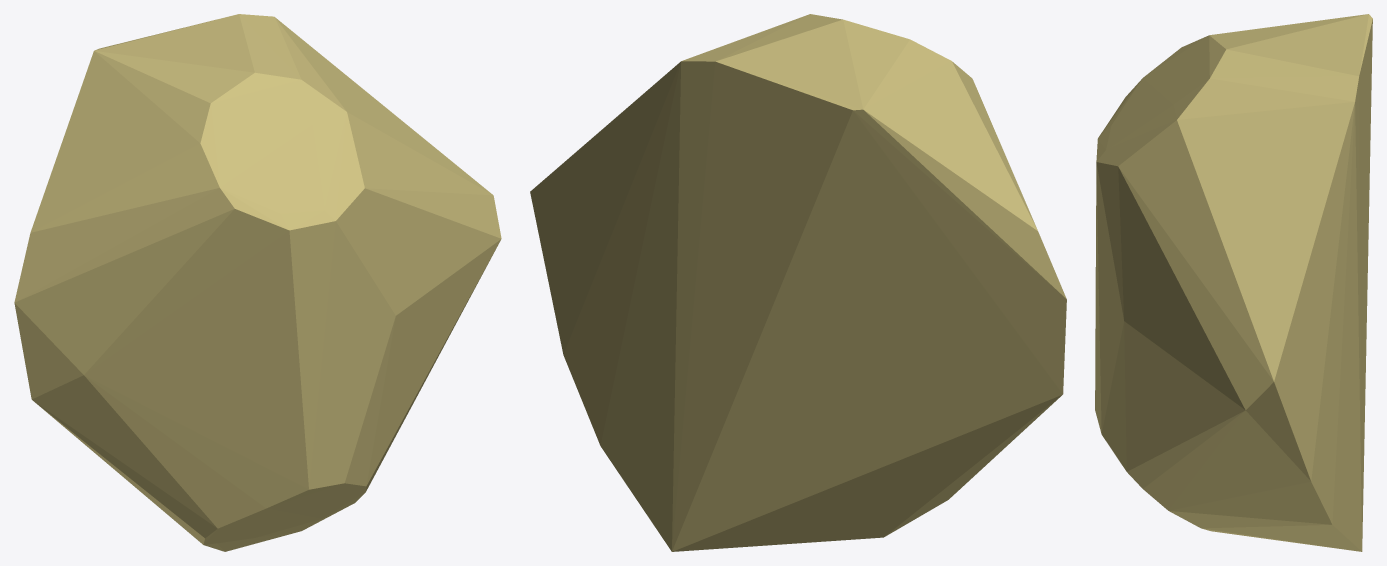
Rendered from ppe_respirator_halfMask_b01.glb.
3 renders of one model, left to right at view 1: azimuth 30°, elevation 25°; view 2: azimuth 150°, elevation 25°; view 3: azimuth 270°, elevation 25°, orthographic. The views are drawn at different scales.
Visible parts, largest first — view 1: geometry_0; view 2: geometry_0; view 3: geometry_0.
Part boxes in pixels (left/top/right/bottom): geometry_0: left=14, top=14, right=501, bottom=551; geometry_0: left=530, top=14, right=1066, bottom=551; geometry_0: left=1095, top=14, right=1372, bottom=551.
Bounding box in the file's own units: 0.4652 × 0.4292 × 0.2306.
